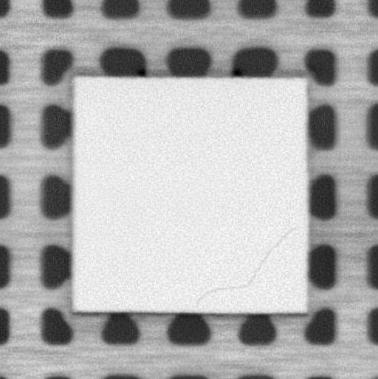DIE_CRACK: (195, 224, 302, 308)
